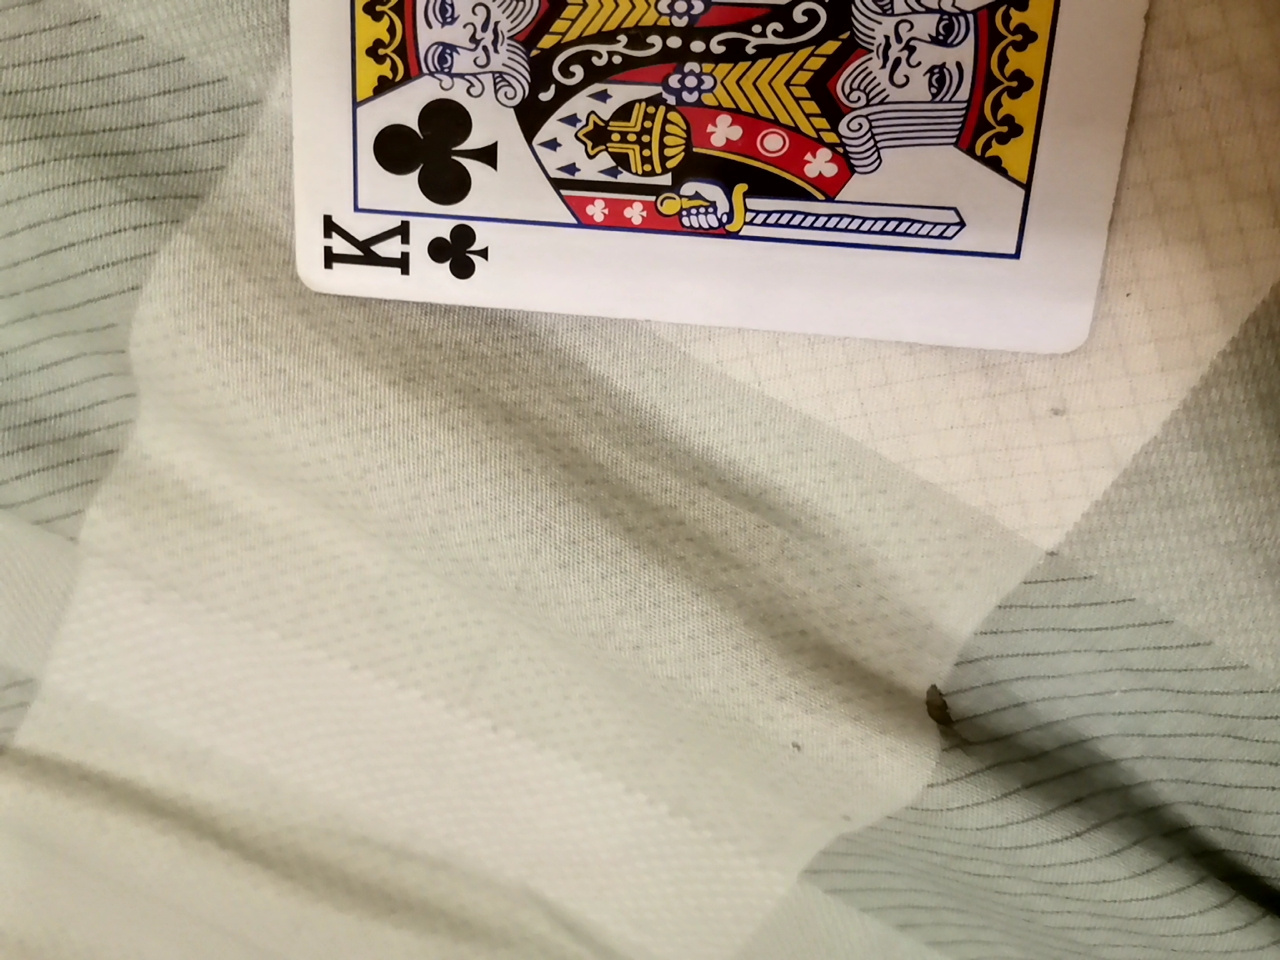mh k: (284, 0, 1142, 338)
